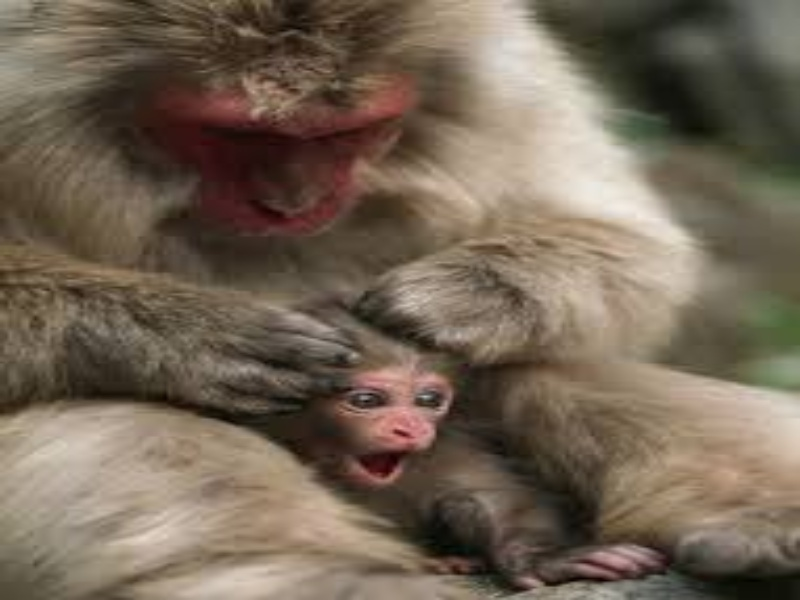monkey: (16, 9, 746, 587)
